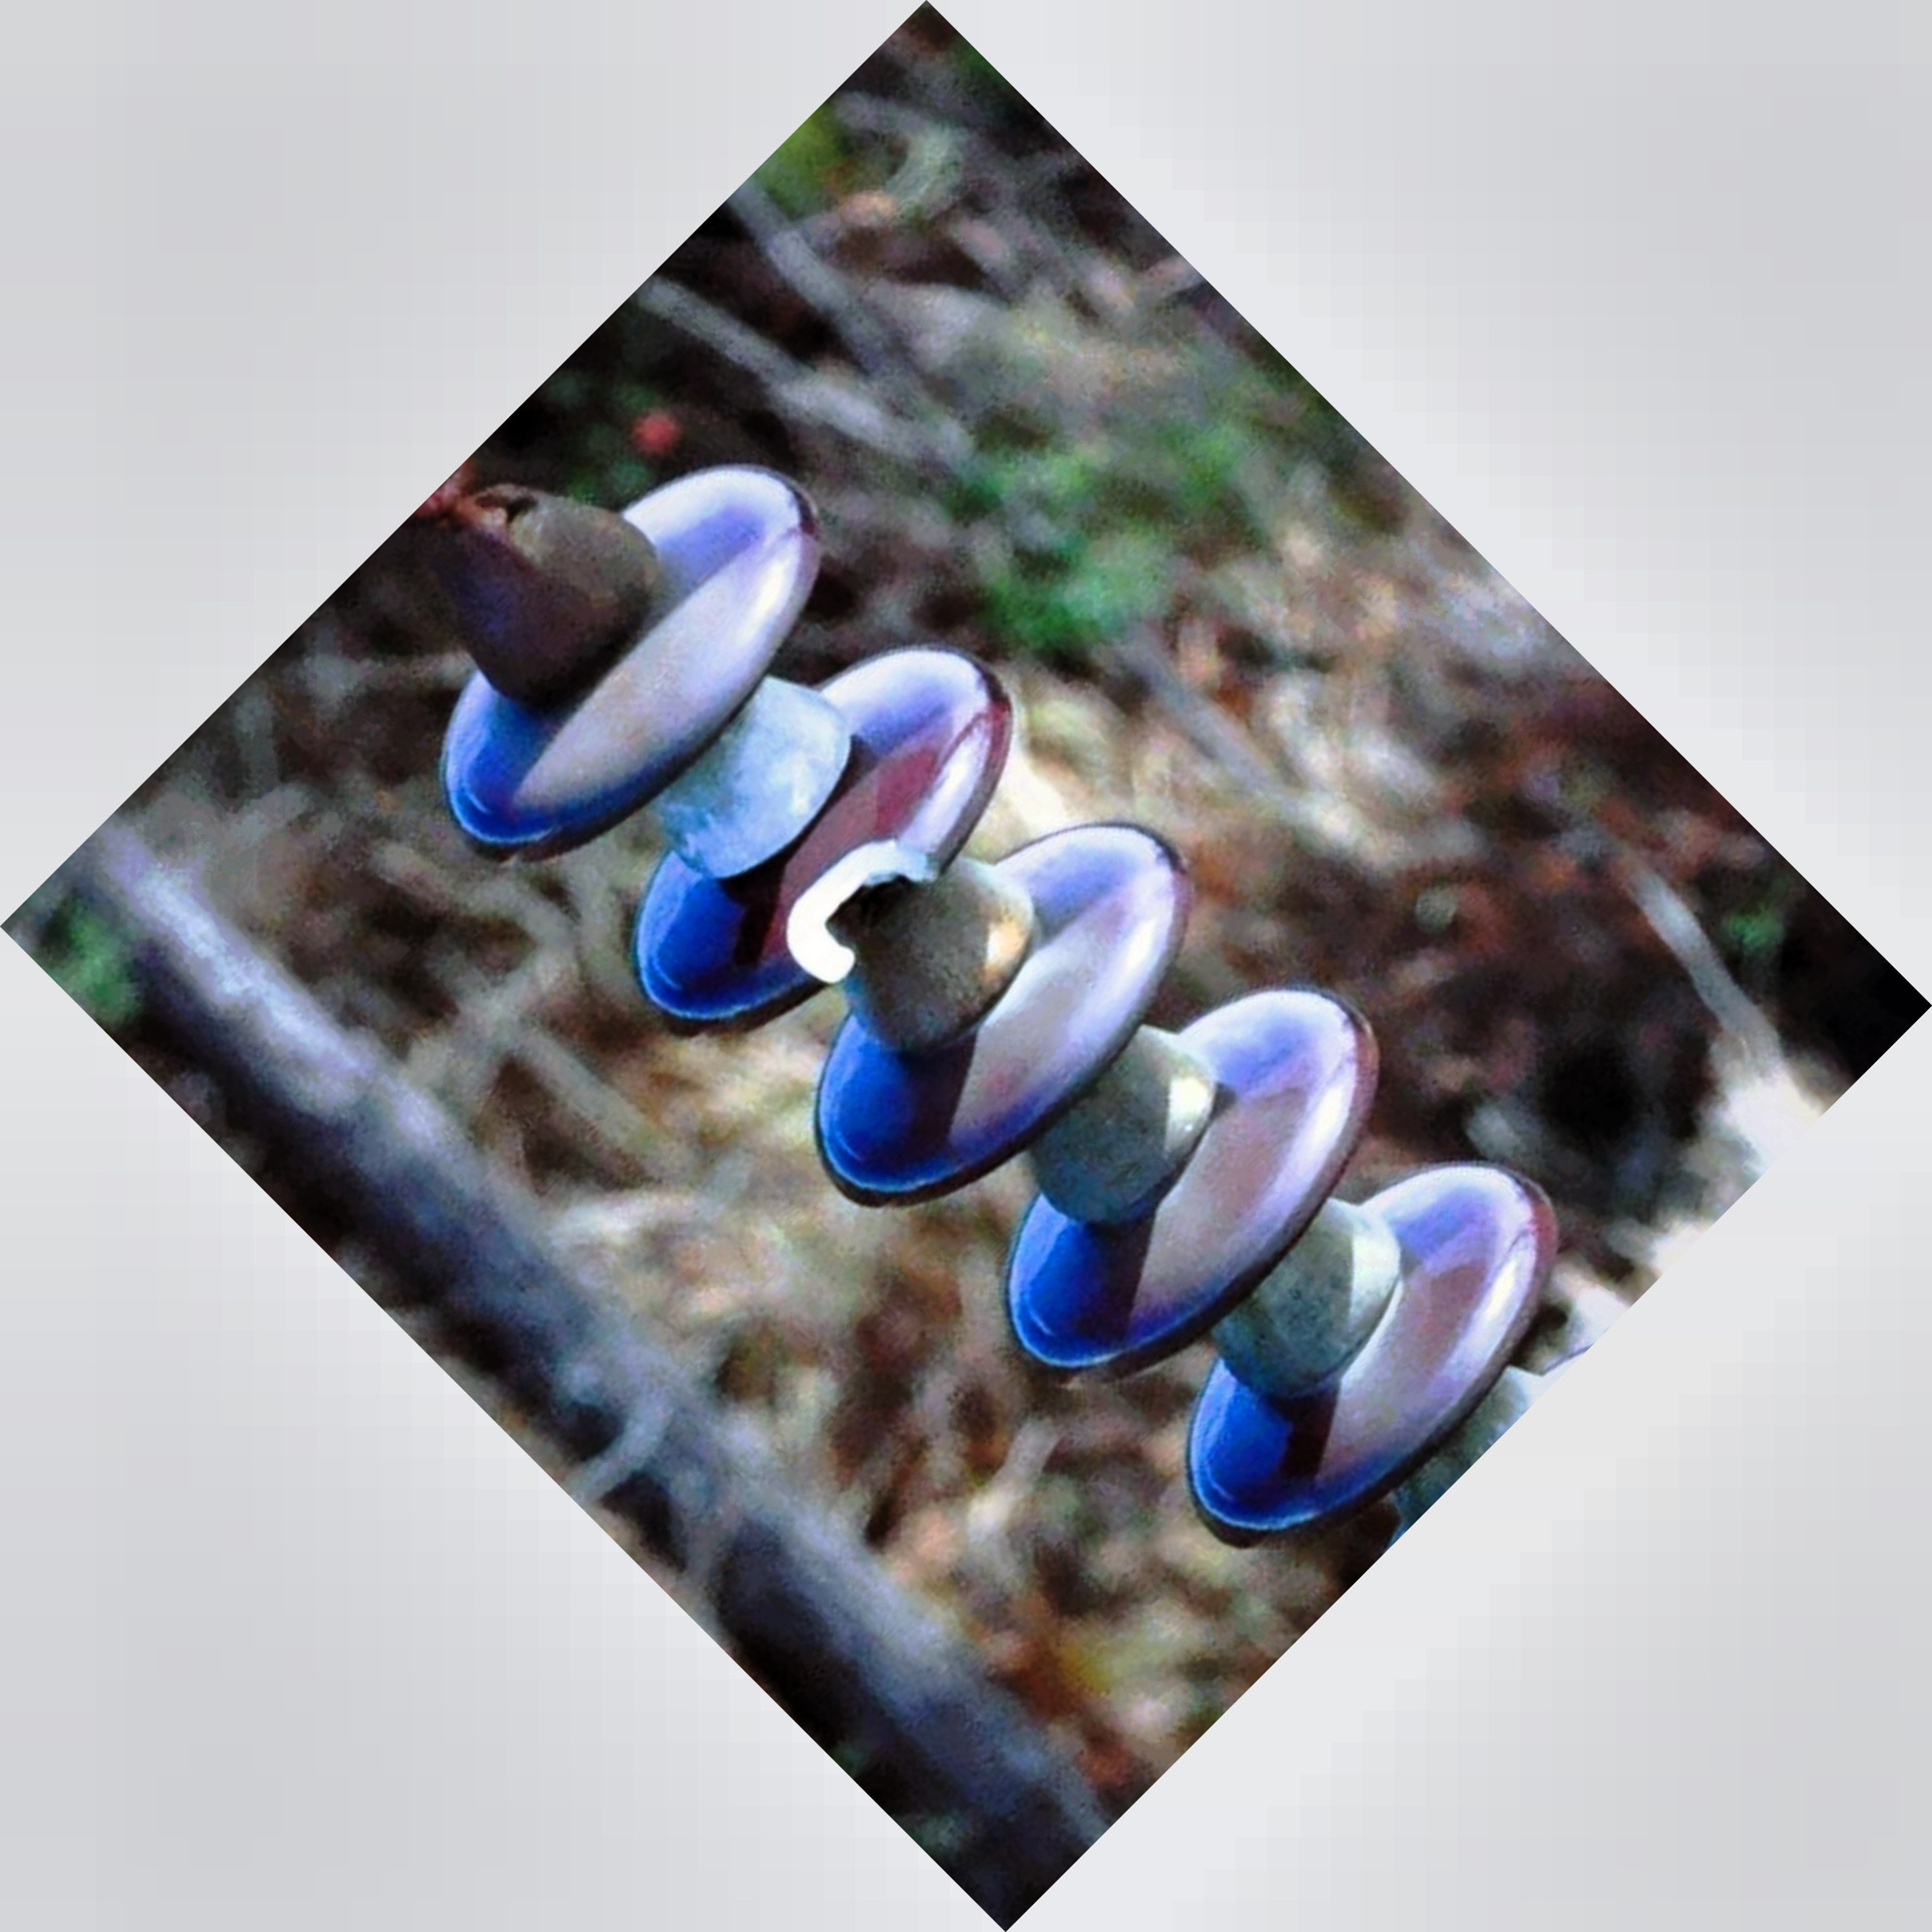insulator breakage: (628, 635, 1035, 1065)
